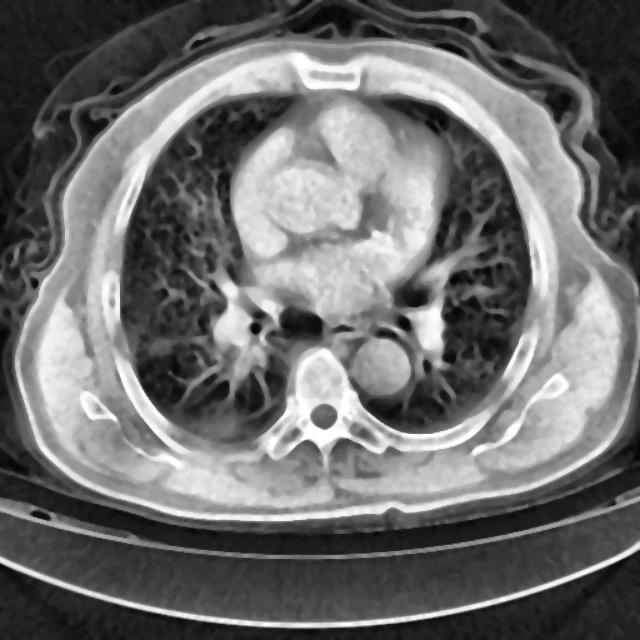covid: (5, 3, 638, 535)
